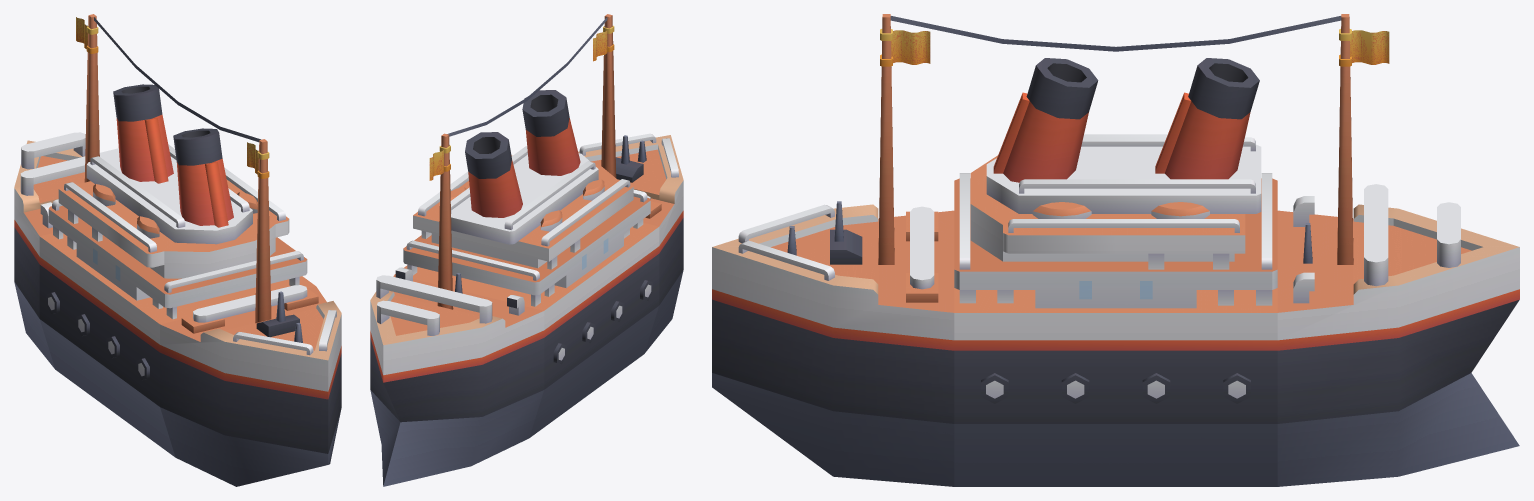
The model's file is ship-ocean-liner-small.glb.
The picture shows the model from 3 angles, left to right: view 1: azimuth 30°, elevation 25°; view 2: azimuth 150°, elevation 25°; view 3: azimuth 270°, elevation 25°; orthographic projection. The views are drawn at different scales.
Visible parts, largest first — view 1: ship-ocean-liner-small; view 2: ship-ocean-liner-small; view 3: ship-ocean-liner-small.
Part boxes in pixels (x1,y1,x2,y2): ship-ocean-liner-small: (14, 14, 341, 486); ship-ocean-liner-small: (370, 14, 683, 486); ship-ocean-liner-small: (712, 14, 1519, 486).
Size of the model in its own units: 4.76 by 8.93 by 15.2.
Materials: 1 (1 with a texture image).
